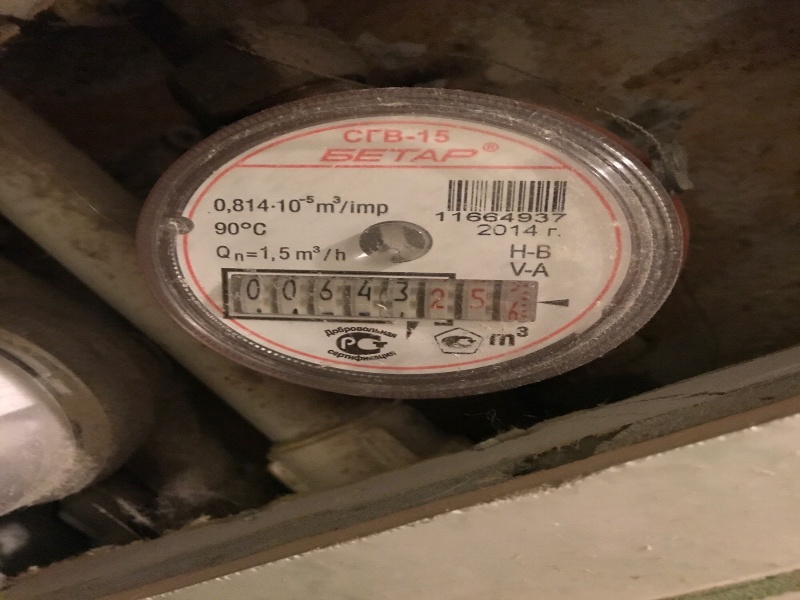meter: (217, 268, 528, 321)
